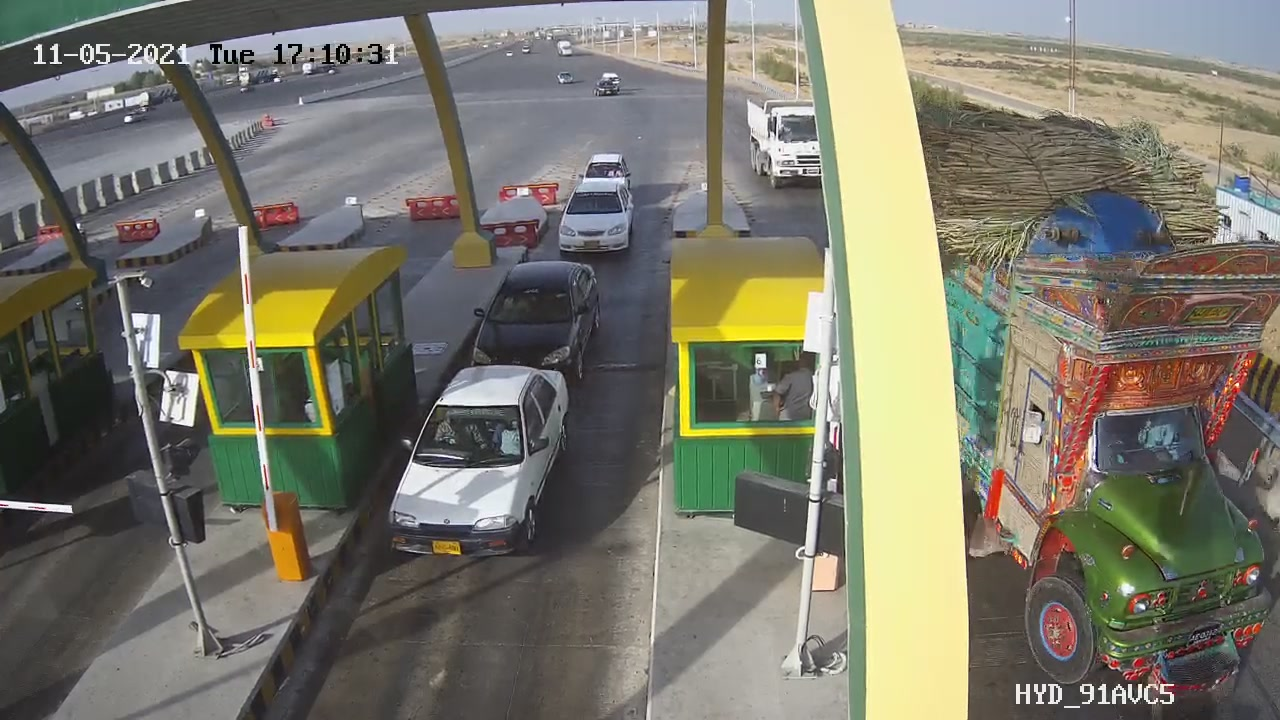F1: (372, 356, 587, 578), (455, 248, 620, 408), (538, 174, 653, 269)
